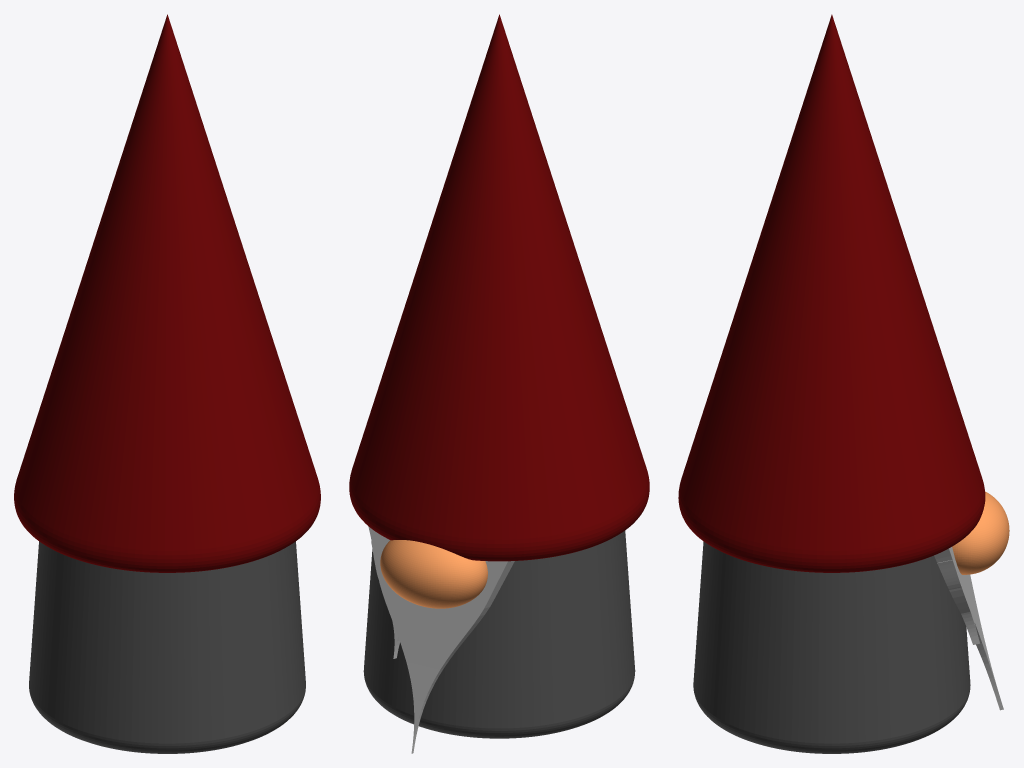
File: Гномик (ака игрушка для подарка).fbx
3 views of the same model, side by side, from view 1: azimuth 30°, elevation 25°; view 2: azimuth 150°, elevation 25°; view 3: azimuth 270°, elevation 25° (orthographic). The views are drawn at different scales.
Visible parts, largest first — view 1: Sphere; view 2: Sphere; view 3: Sphere.
Part boxes in pixels (bbox=[...]): Sphere: bbox=[14, 14, 320, 753]; Sphere: bbox=[349, 14, 649, 753]; Sphere: bbox=[678, 14, 1009, 753].
Bounding box in the file's own units: 208 × 519 × 224.
